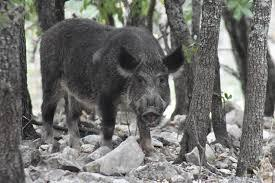wildboar: (29, 17, 189, 155)
